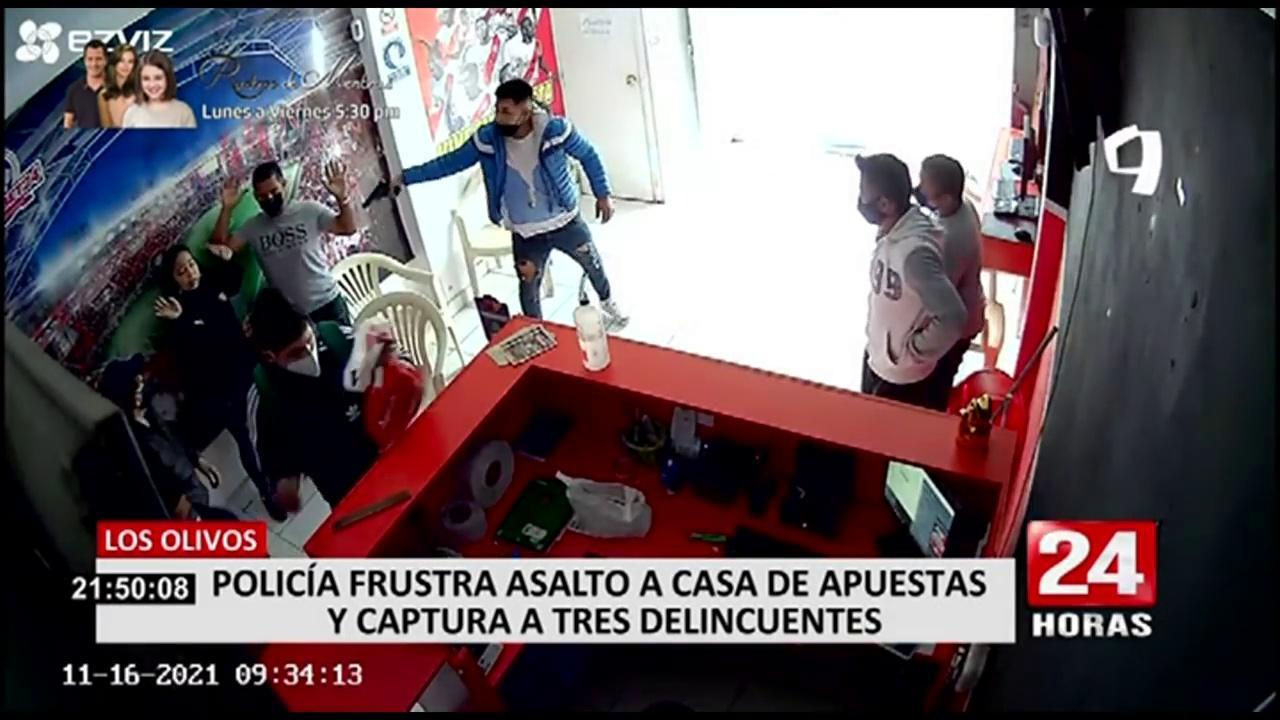Guns perspective: (355, 163, 407, 222)
